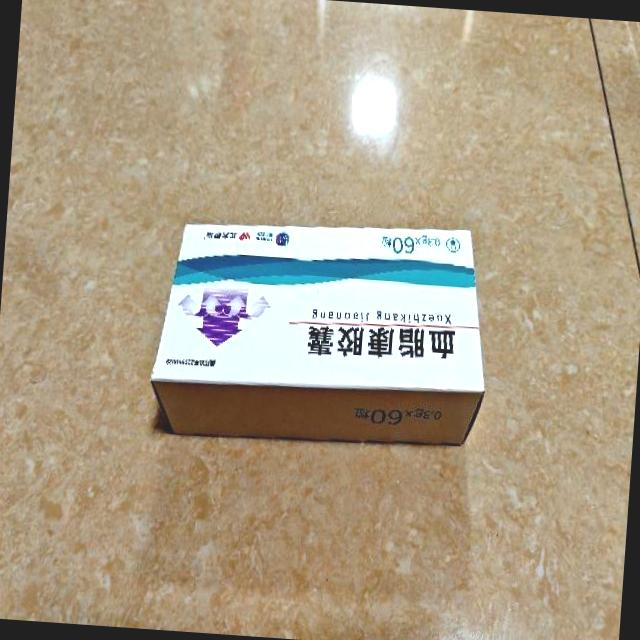box: (146, 207, 497, 453)
